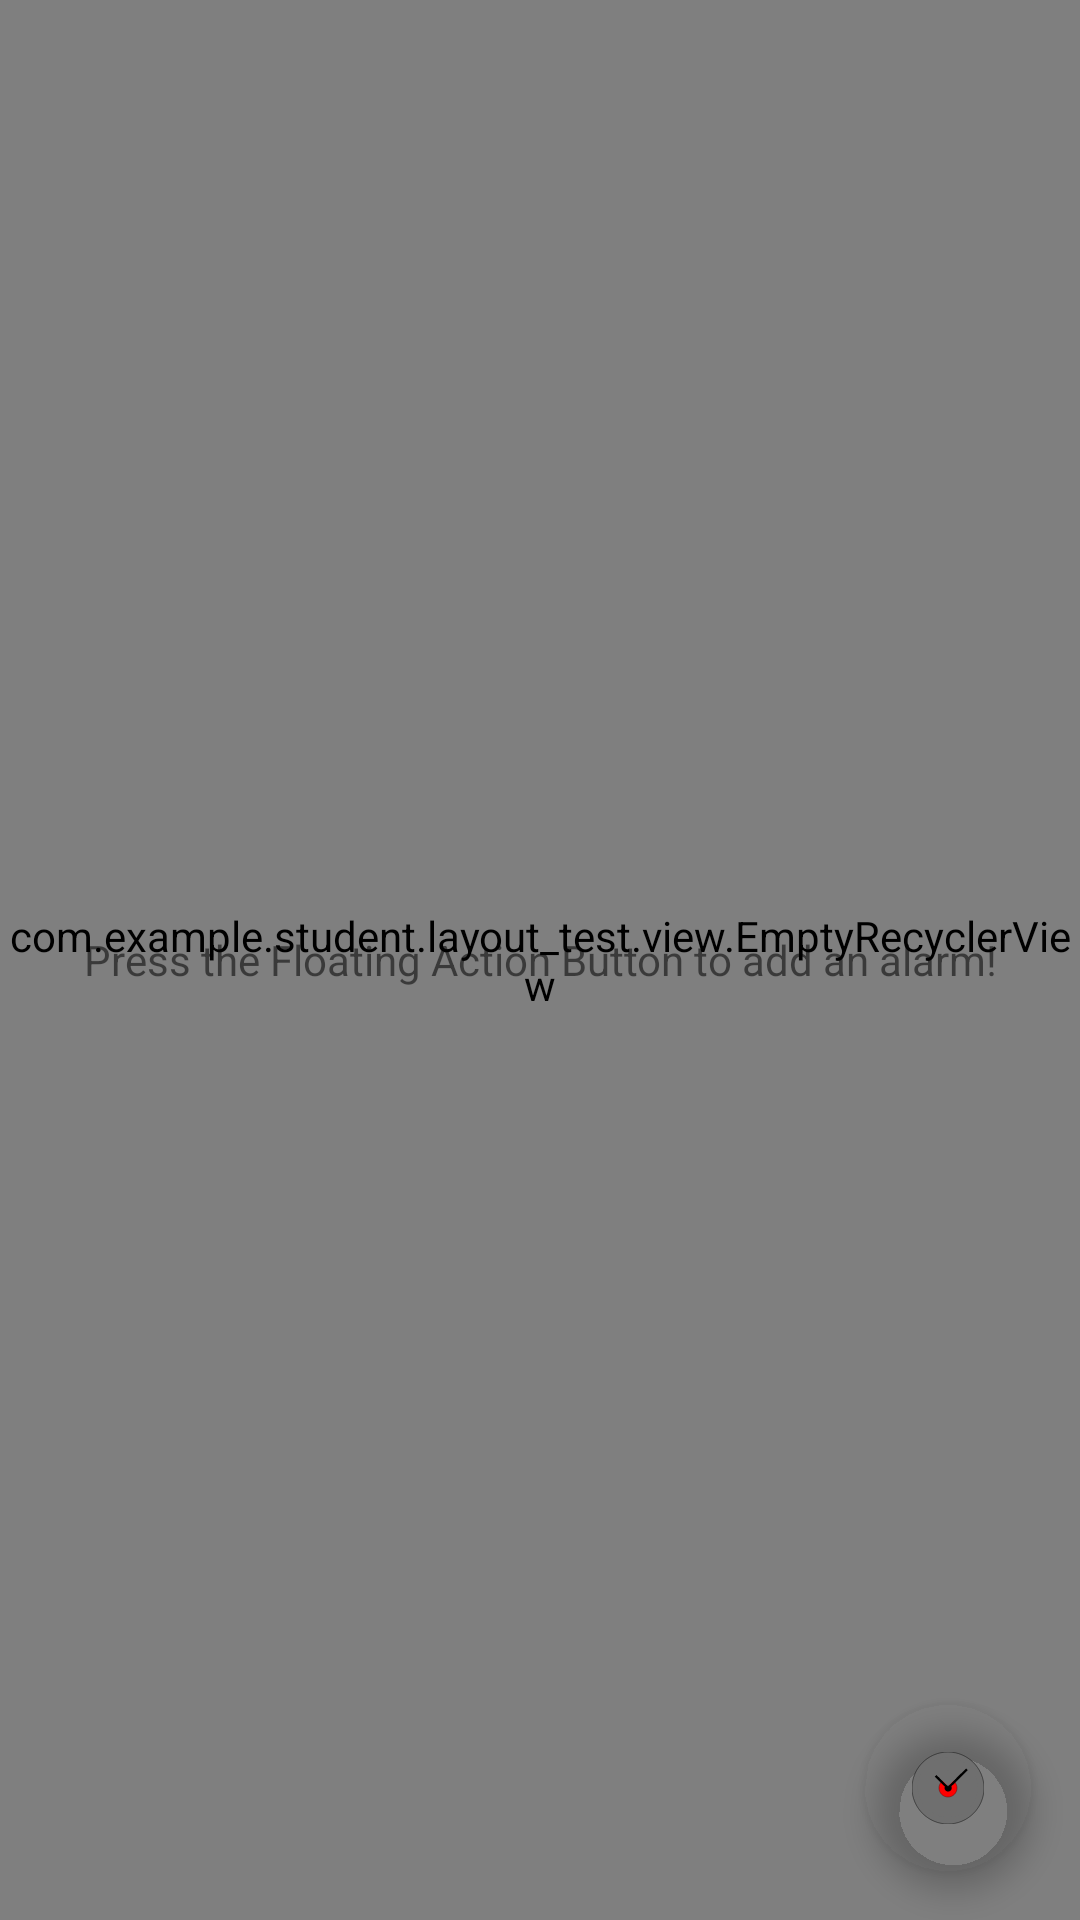

Where to tap for icons on this 1080×1920 app screen, as (x=x, y=y):
angry clock: (x=948, y=1788)
